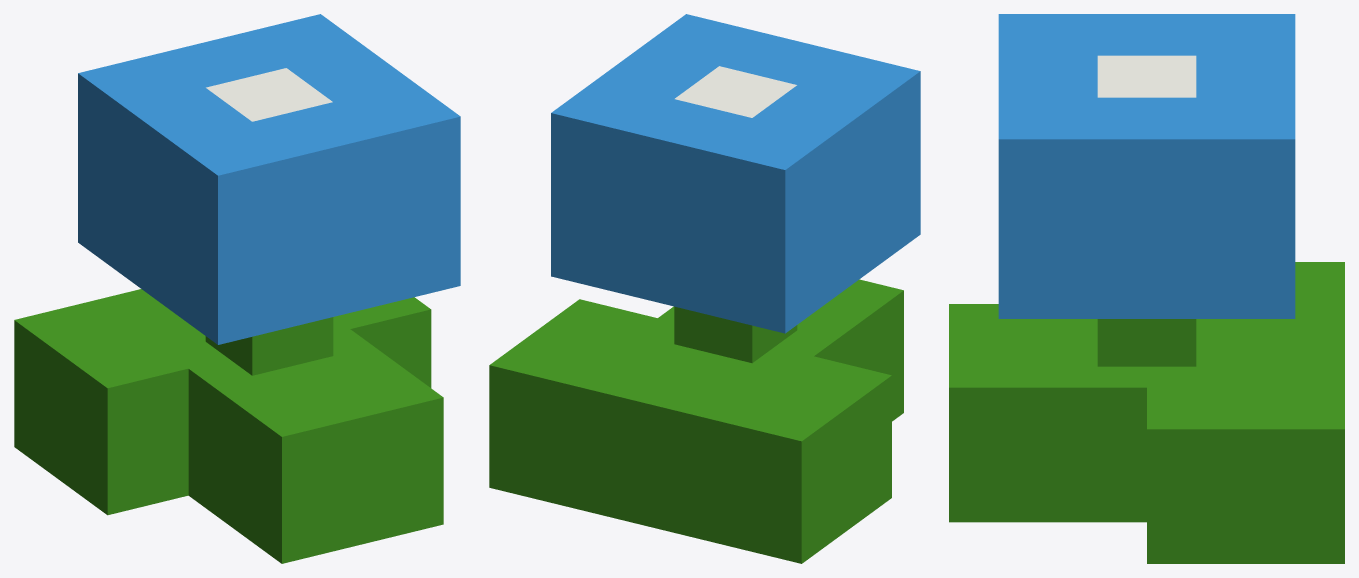
The model's file is deco_flower_clover_blue.glb.
3 views of the same model, side by side, from view 1: azimuth 30°, elevation 25°; view 2: azimuth 150°, elevation 25°; view 3: azimuth 270°, elevation 25° (orthographic). The views are drawn at different scales.
Parts seen in each view (by area): view 1: model_0; view 2: model_0; view 3: model_0.
Part boxes in pixels (x1,y1,x2,y2): model_0: [14, 14, 460, 563]; model_0: [489, 14, 920, 563]; model_0: [949, 14, 1344, 563].
Bounding box in the file's own units: 0.32 × 0.36 × 0.32.
